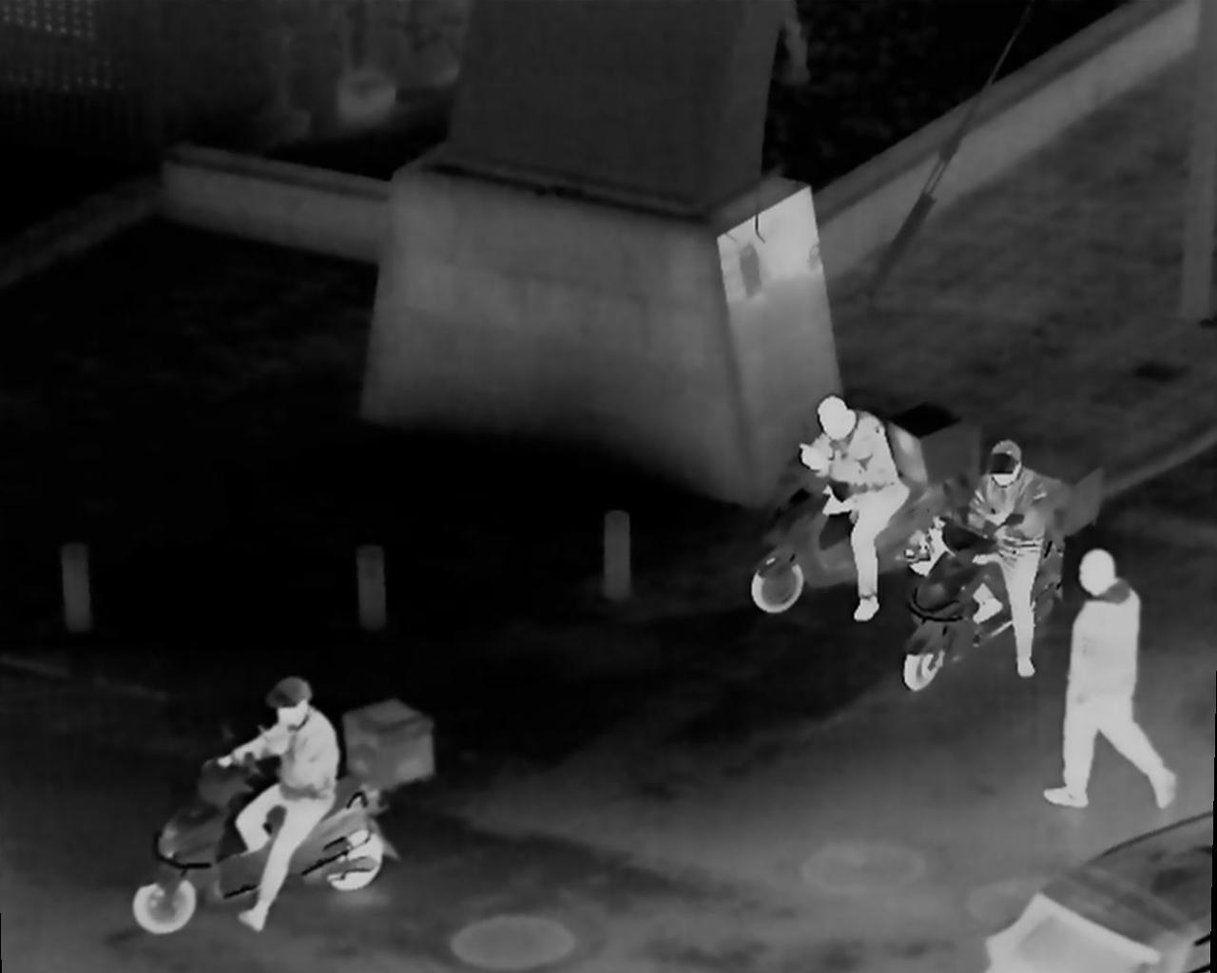person: (1043, 545, 1169, 818), (242, 692, 353, 936), (937, 413, 1040, 658), (800, 385, 901, 622)
